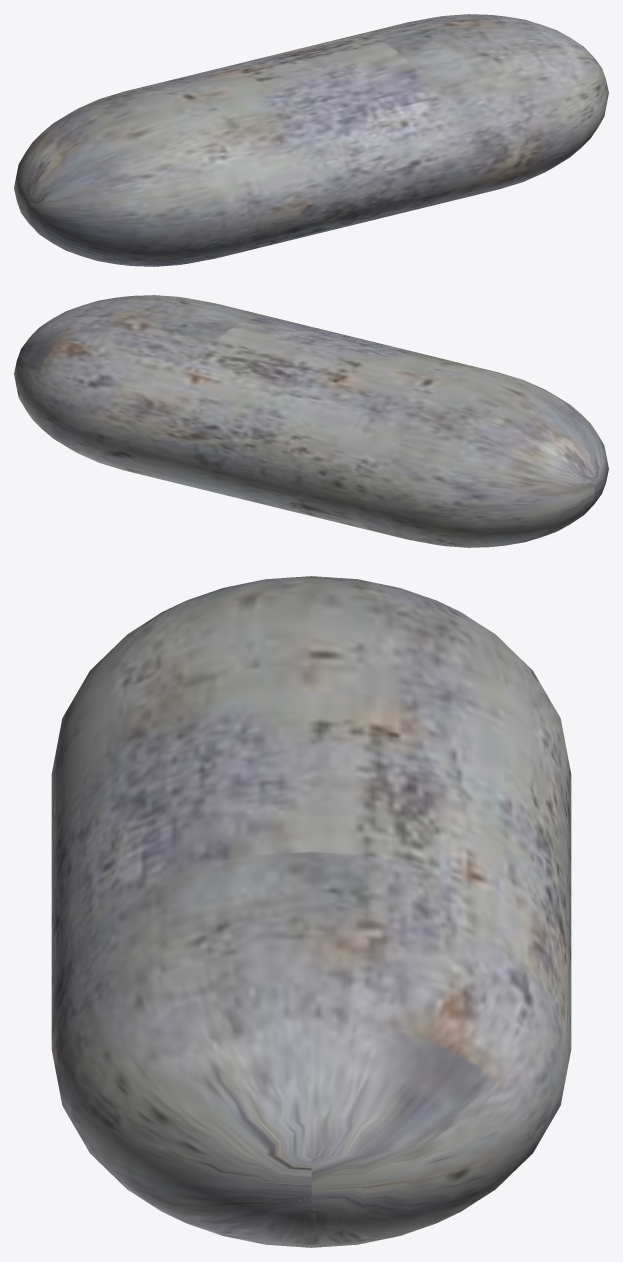
The model's file is Body.fbx.
3 views of the same model, one above another, from view 1: azimuth 30°, elevation 25°; view 2: azimuth 150°, elevation 25°; view 3: azimuth 270°, elevation 25° (orthographic). The views are drawn at different scales.
Parts seen in each view (by area): view 1: Body; view 2: Body; view 3: Body.
Boxes of the visible parts, x1=… form: Body: x1=14, y1=14, x2=608, y2=266; Body: x1=14, y1=295, x2=608, y2=547; Body: x1=51, y1=576, x2=571, y2=1247.
Bounding box in the file's own units: 2.52 × 0.6 × 1.
